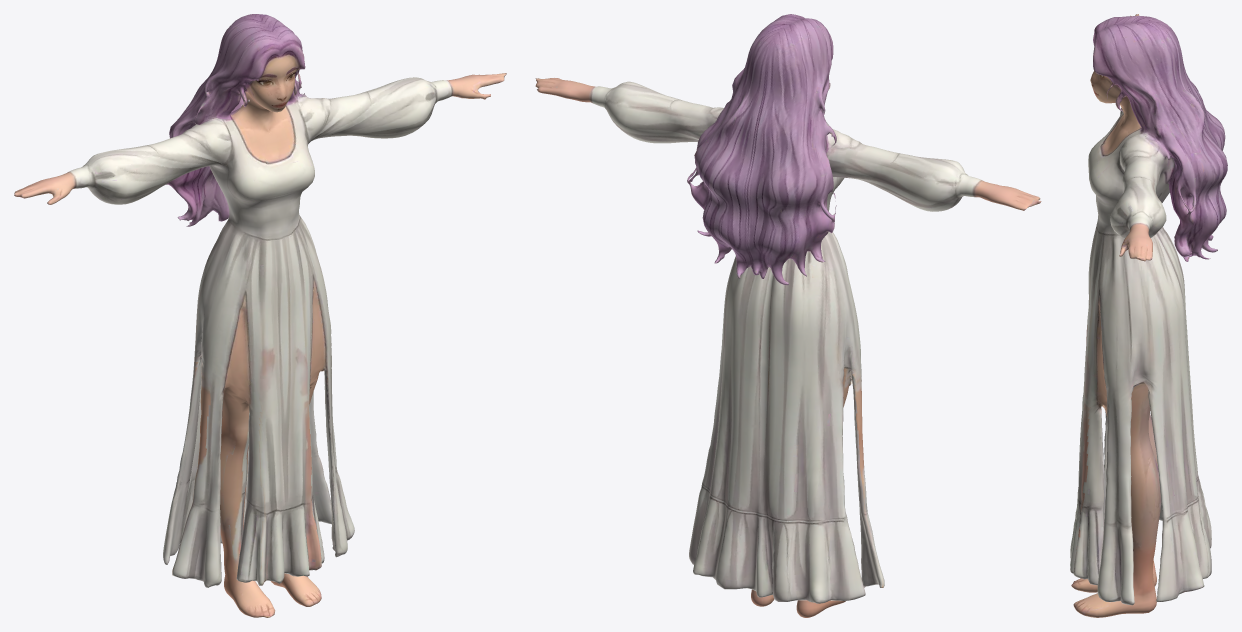
The model's file is female-meshy.glb.
The picture shows the model from 3 angles, left to right: view 1: azimuth 30°, elevation 25°; view 2: azimuth 150°, elevation 25°; view 3: azimuth 270°, elevation 25°; orthographic projection. The views are drawn at different scales.
Parts seen in each view (by area): view 1: Mesh_0; view 2: Mesh_0; view 3: Mesh_0.
Part boxes in pixels (left/top/right/bottom): Mesh_0: left=14, top=14, right=506, bottom=617; Mesh_0: left=535, top=14, right=1041, bottom=617; Mesh_0: left=1070, top=14, right=1227, bottom=617.
Bounding box in the file's own units: 1.72 × 1.91 × 0.4698.
Materials: 1 (1 with a texture image).
